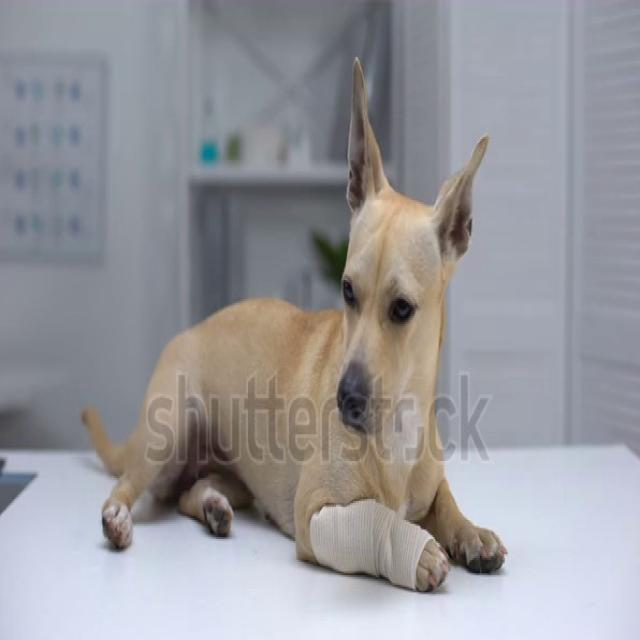injured-animals: (77, 52, 510, 598)
